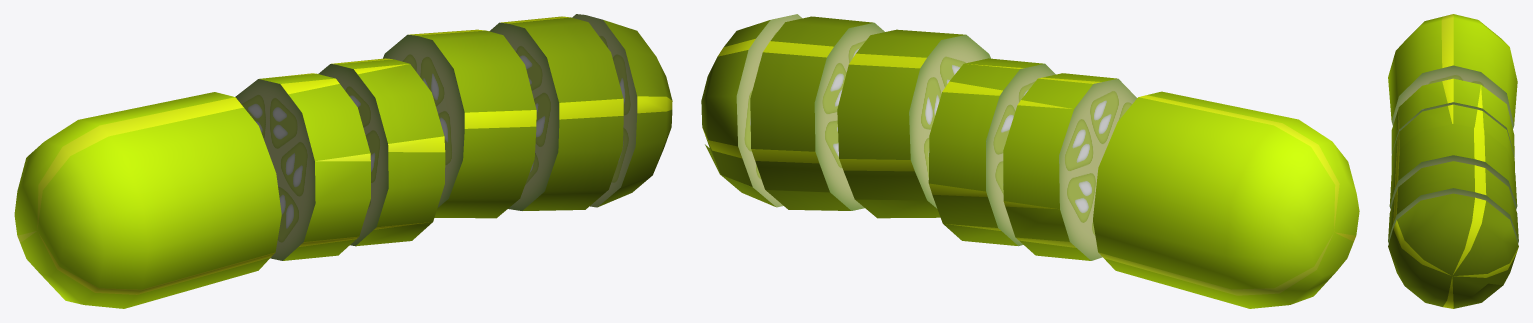
Rendered from Cucumber_01_S5.fbx.
The picture shows the model from 3 angles, left to right: view 1: azimuth 30°, elevation 25°; view 2: azimuth 150°, elevation 25°; view 3: azimuth 270°, elevation 25°; orthographic projection. The views are drawn at different scales.
Parts seen in each view (by area): view 1: Cucumber_01_S5; view 2: Cucumber_01_S5; view 3: Cucumber_01_S5.
Boxes of the visible parts, x1=… form: Cucumber_01_S5: x1=14, y1=14, x2=672, y2=308; Cucumber_01_S5: x1=701, y1=14, x2=1359, y2=308; Cucumber_01_S5: x1=1388, y1=14, x2=1518, y2=308.
Size of the model in its own units: 144 by 43.49 by 39.51.
